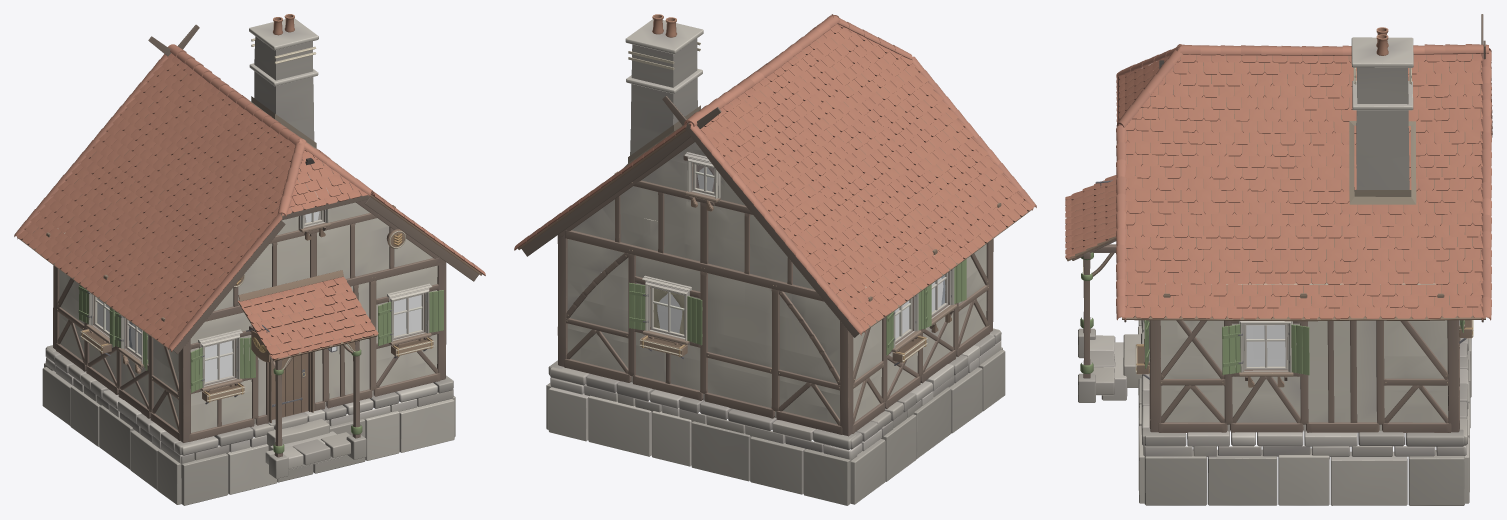
Rendered from bd_house_bakery.glb.
3 renders of one model, left to right at view 1: azimuth 30°, elevation 25°; view 2: azimuth 150°, elevation 25°; view 3: azimuth 270°, elevation 25°, orthographic. The views are drawn at different scales.
Parts seen in each view (by area): view 1: BD_house_bakery__body; view 2: BD_house_bakery__body; view 3: BD_house_bakery__body.
Boxes of the visible parts, x1,y1,x2,y2 form: BD_house_bakery__body: (14,14,485,505); BD_house_bakery__body: (514,14,1036,505); BD_house_bakery__body: (1065,14,1492,505).
Size of the model in its own units: 8.51 by 9.39 by 8.44.
